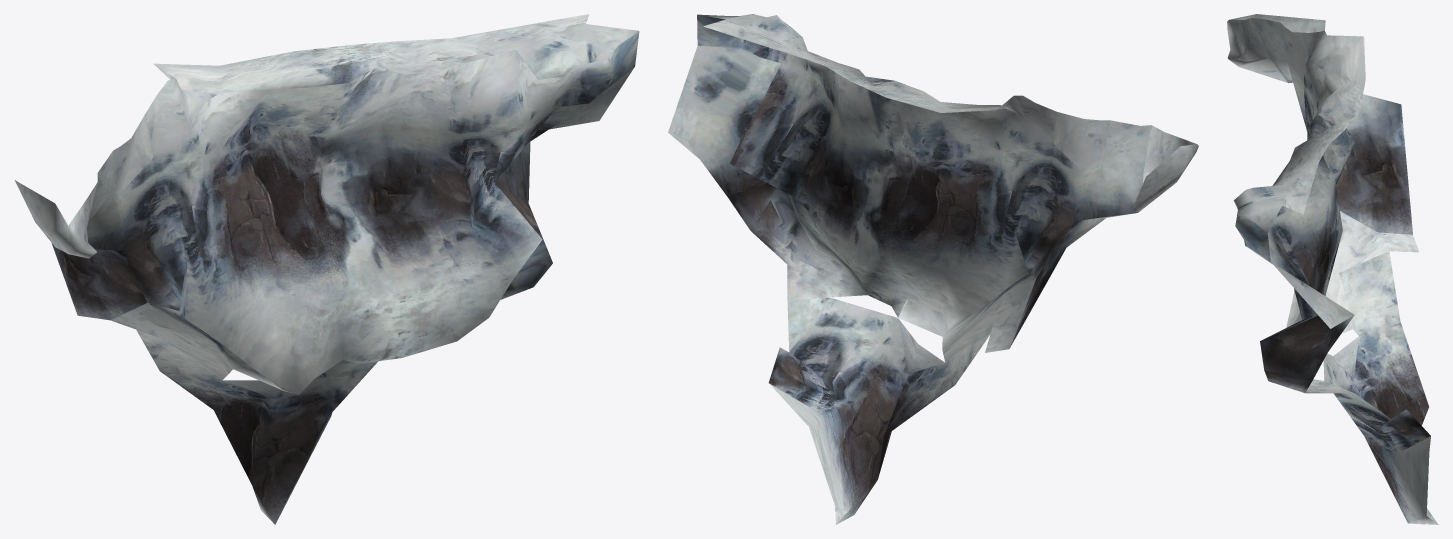
The model's file is snowland_rock021_A1.FBX.
3 renders of one model, left to right at view 1: azimuth 30°, elevation 25°; view 2: azimuth 150°, elevation 25°; view 3: azimuth 270°, elevation 25°, orthographic. The views are drawn at different scales.
Visible parts, largest first — view 1: snowland_rock021_A1; view 2: snowland_rock021_A1; view 3: snowland_rock021_A1.
Part boxes in pixels (<box>): snowland_rock021_A1: <box>14,14,639,524</box>; snowland_rock021_A1: <box>668,14,1198,524</box>; snowland_rock021_A1: <box>1227,14,1438,524</box>.
Bounding box in the file's own units: 2217 × 1849 × 826.
